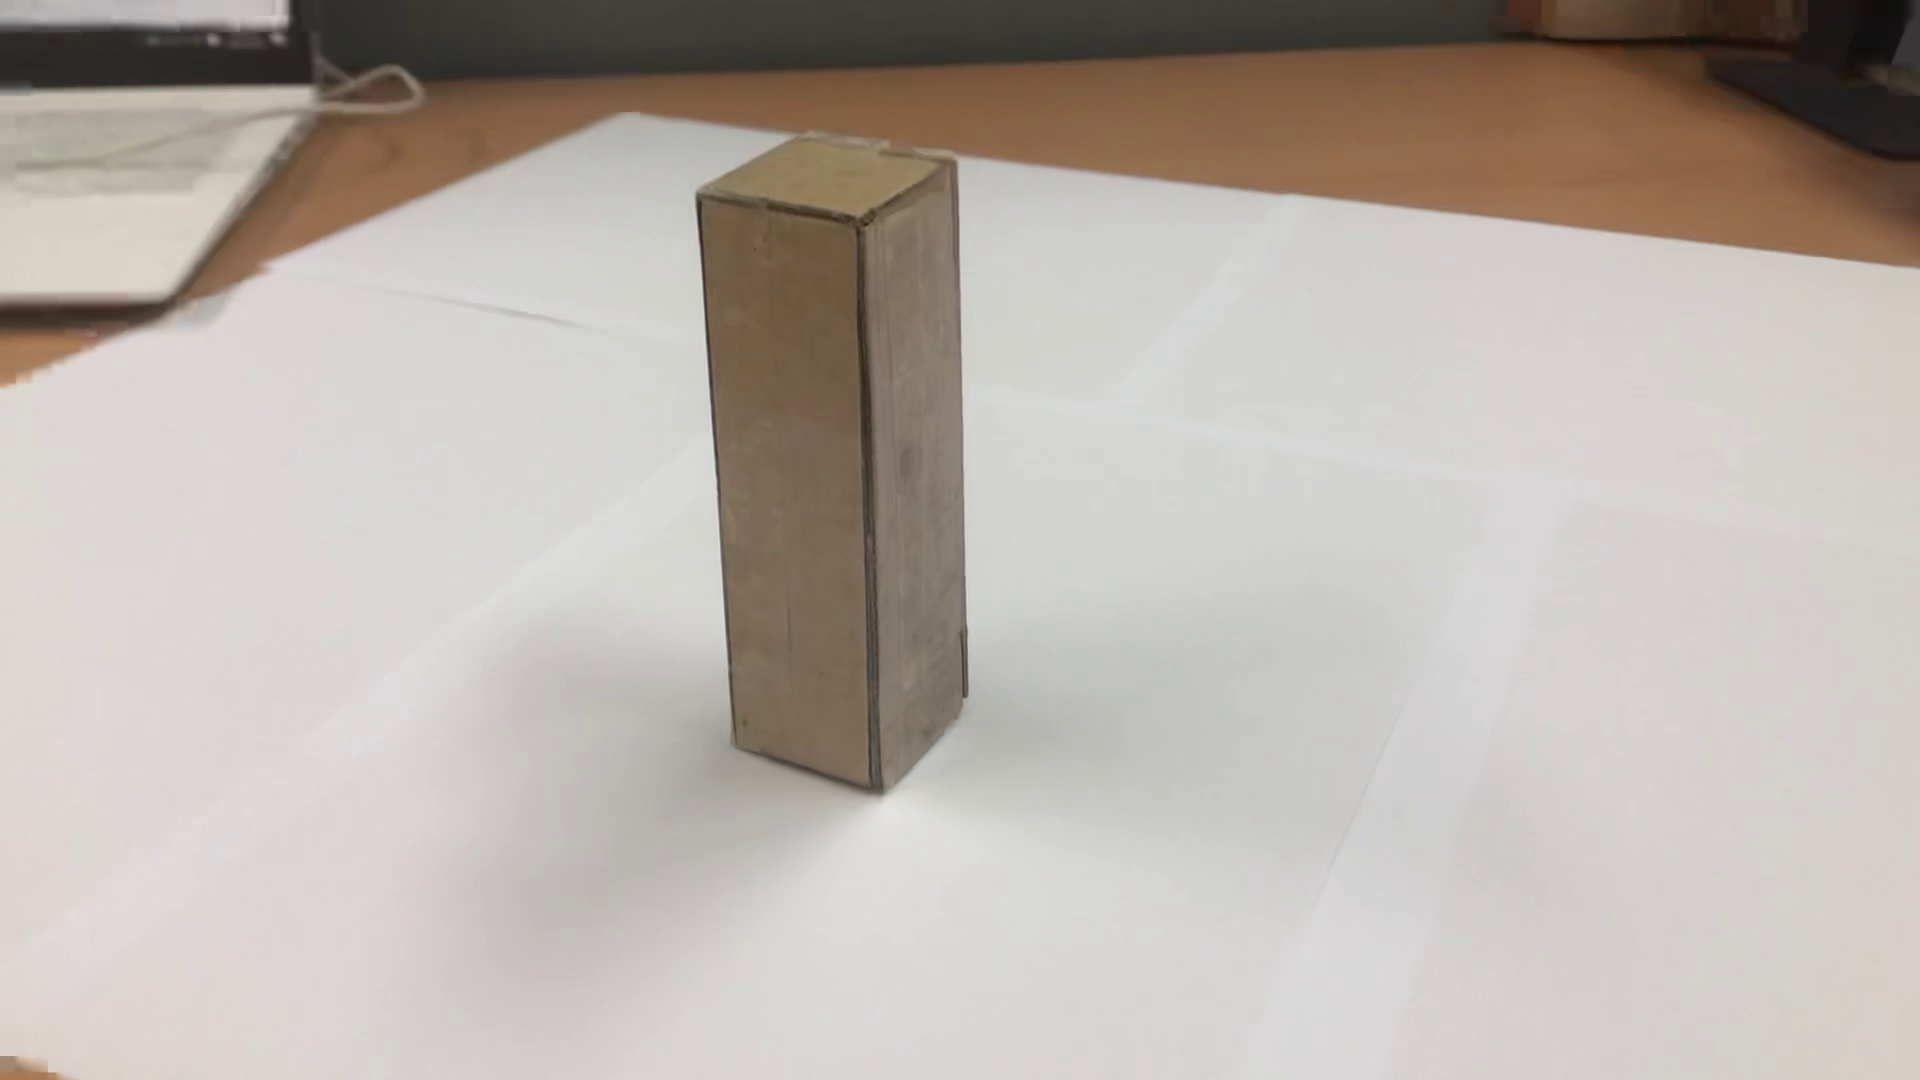box: (663, 109, 1009, 810)
